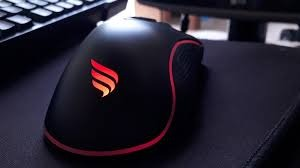mouse: (38, 12, 208, 168)
